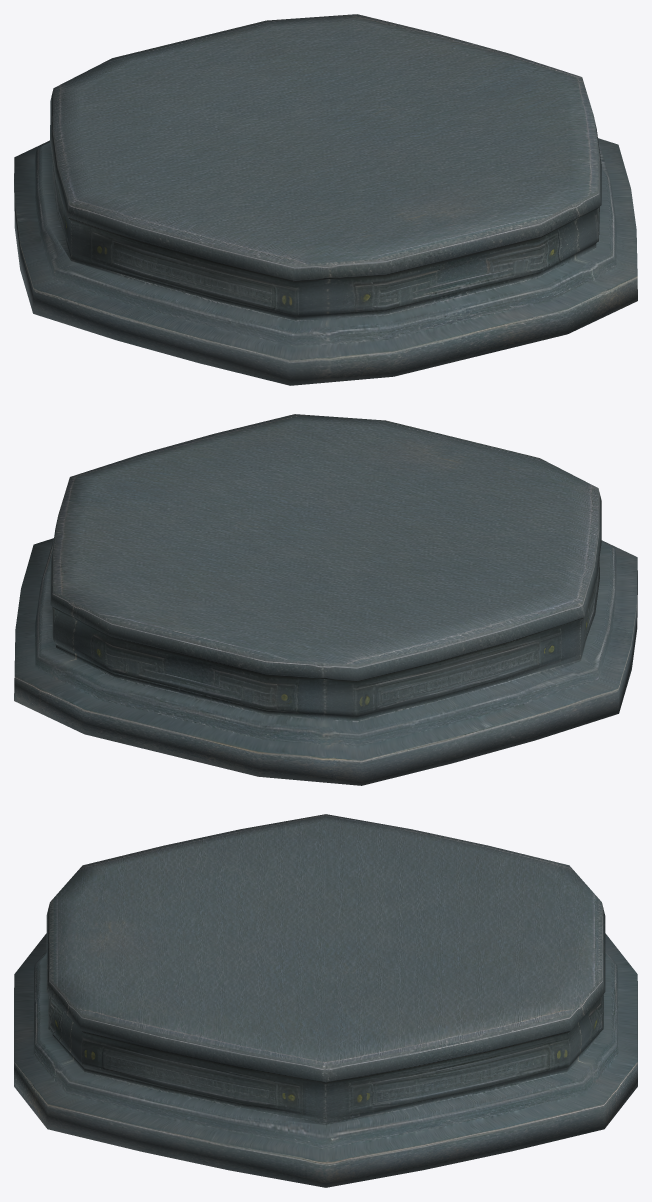
Rendered from TianyiDais_LOD2.fbx.
3 views of the same model, one above another, from view 1: azimuth 30°, elevation 25°; view 2: azimuth 150°, elevation 25°; view 3: azimuth 270°, elevation 25° (orthographic).
Parts seen in each view (by area): view 1: TianyiDais_LOD2; view 2: TianyiDais_LOD2; view 3: TianyiDais_LOD2.
Boxes of the visible parts, bbox=[...] form: TianyiDais_LOD2: bbox=[14, 14, 637, 385]; TianyiDais_LOD2: bbox=[14, 414, 637, 785]; TianyiDais_LOD2: bbox=[14, 814, 637, 1187].
Bounding box in the file's own units: 3.13 × 0.55 × 2.86.
Materials: 1 (1 with a texture image).
